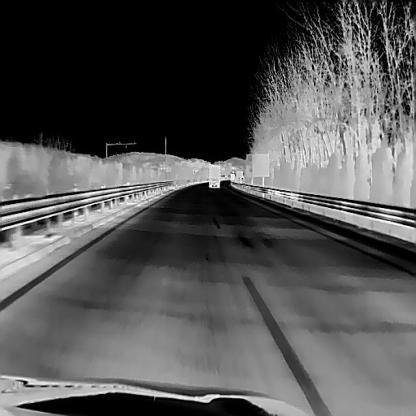car: (208, 163, 221, 187)
